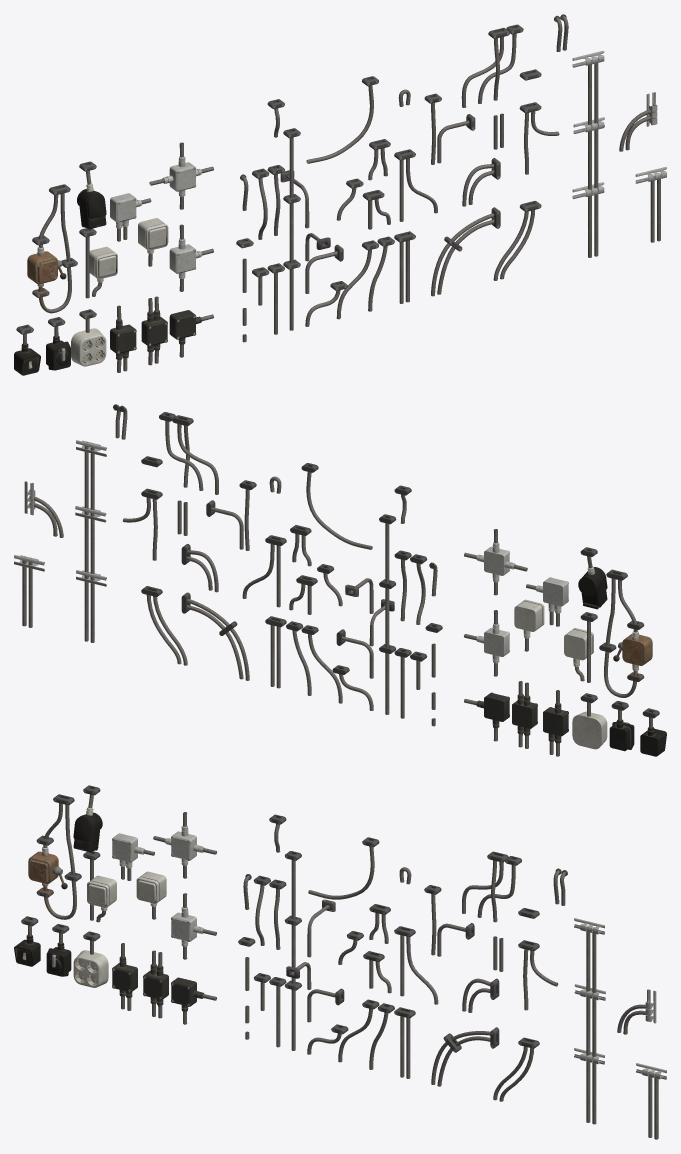
Rendered from modular_electric_cables.glb.
3 views of the same model, one above another, from view 1: azimuth 30°, elevation 25°; view 2: azimuth 150°, elevation 25°; view 3: azimuth 330°, elevation 25° (orthographic).
Parts seen in each view (by area): view 1: cable_straight_medium, cable_box_3way; view 2: cable_straight_medium, cable_box_3way; view 3: cable_straight_medium, cable_box_3way.
Part boxes in pixels (box(x1,y1,x2,y2)): cable_straight_medium: box(236, 14, 666, 342); cable_box_3way: box(14, 142, 213, 375); cable_straight_medium: box(14, 404, 442, 726); cable_box_3way: box(464, 529, 666, 756); cable_straight_medium: box(238, 814, 666, 1139); cable_box_3way: box(14, 785, 216, 1024).
Bounding box in the file's own units: 2.08 × 0.7573 × 0.2145.
2 materials, 2 textured.
